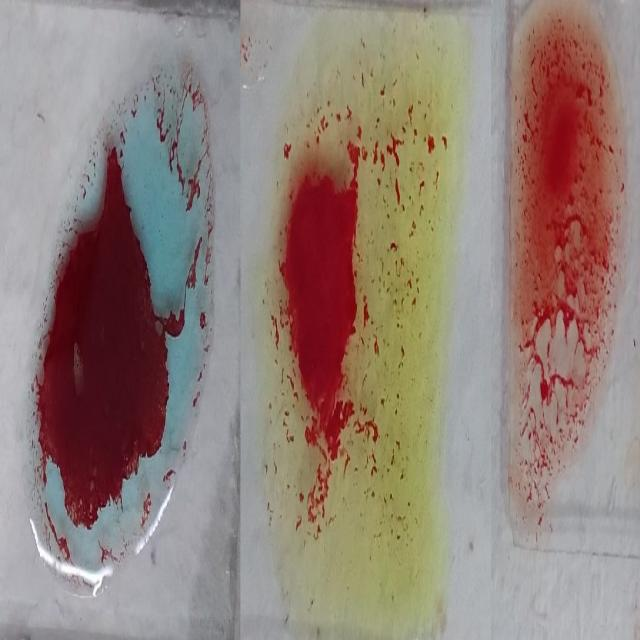A: (28, 51, 216, 583)
B: (256, 41, 436, 599)
D: (509, 14, 620, 534)
